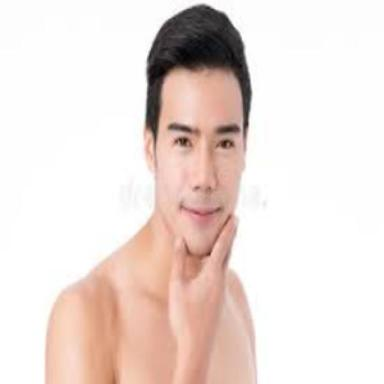normal skin: (46, 67, 255, 384)
